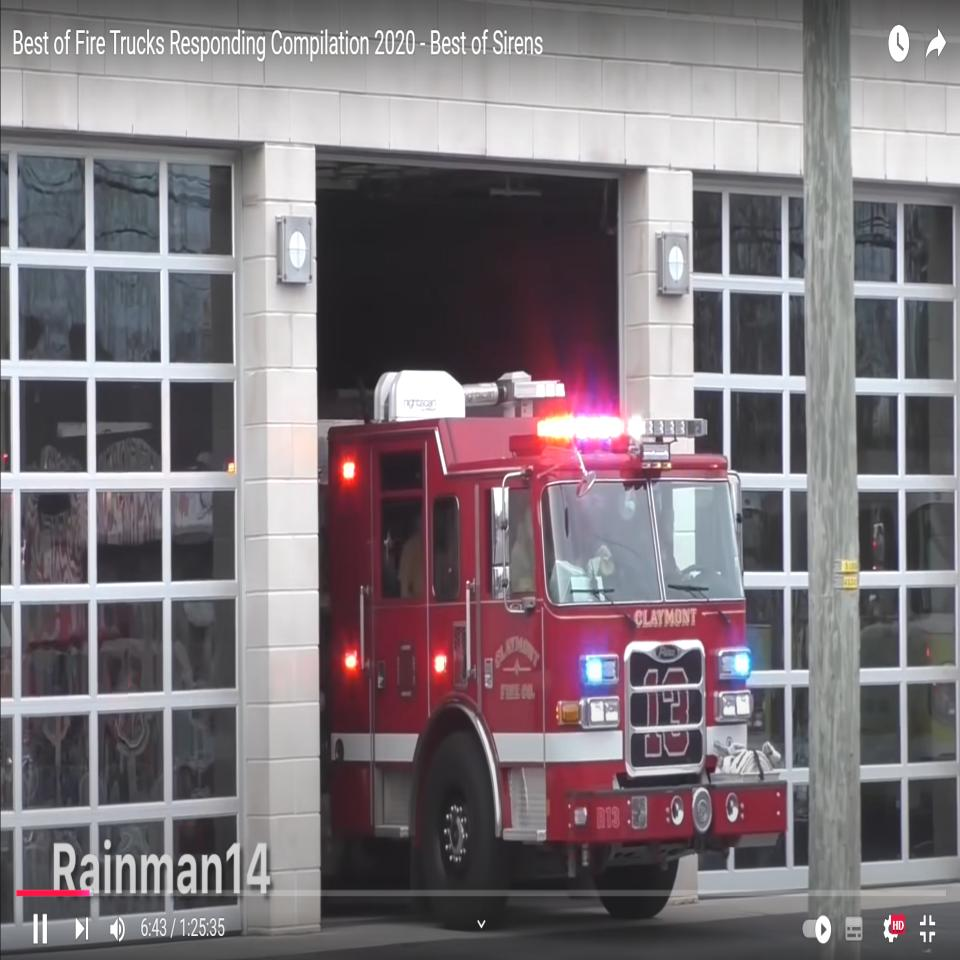bombeiro: (320, 365, 791, 928)
